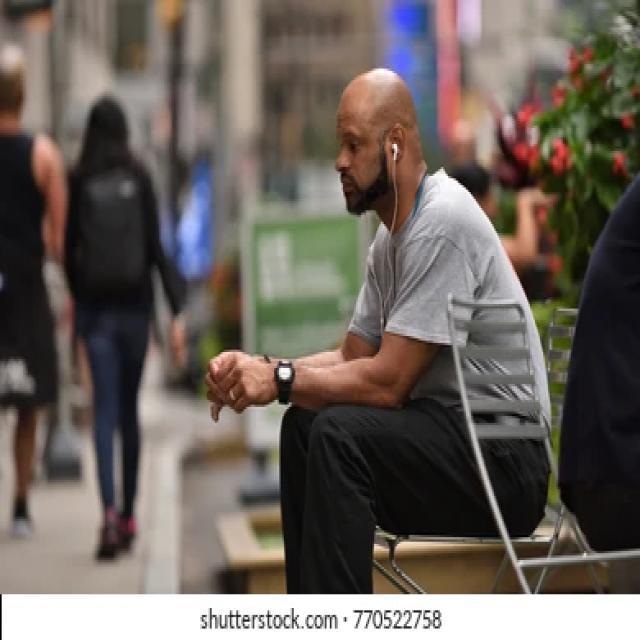nohelmet: (333, 66, 423, 218)
